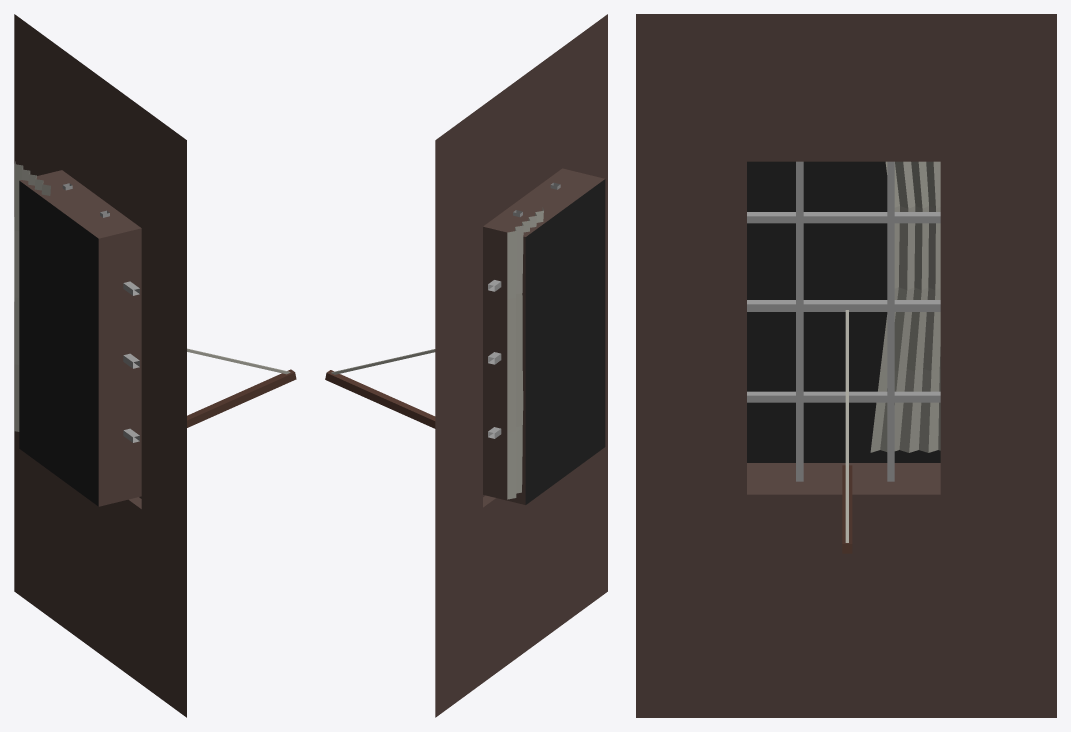
File: houseWall_10.fbx
3 renders of one model, left to right at view 1: azimuth 30°, elevation 25°; view 2: azimuth 150°, elevation 25°; view 3: azimuth 270°, elevation 25°, orthographic. The views are drawn at different scales.
Parts seen in each view (by area): view 1: houseWall_10; view 2: houseWall_10; view 3: houseWall_10.
Part boxes in pixels (<box>): houseWall_10: <box>14,14,296,717</box>; houseWall_10: <box>325,14,607,717</box>; houseWall_10: <box>636,14,1056,717</box>.
Bounding box in the file's own units: 206 × 480 × 260.
